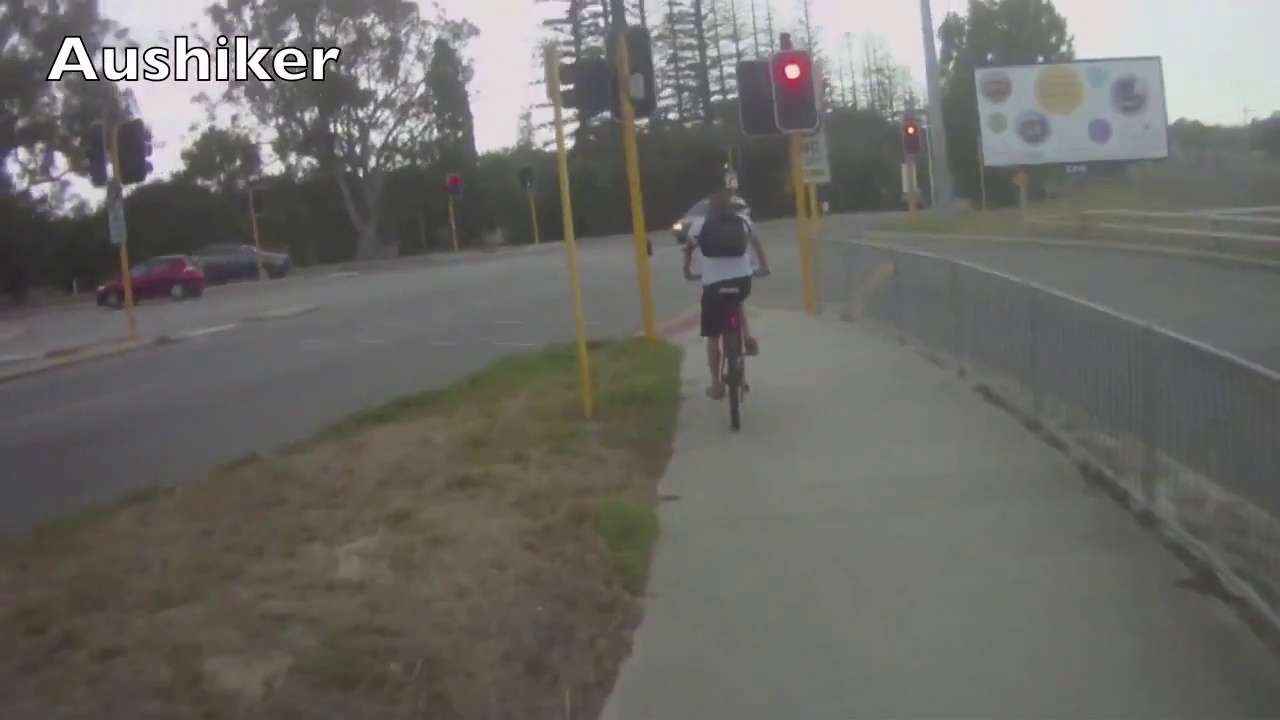cyclist_back: (672, 171, 766, 429)
